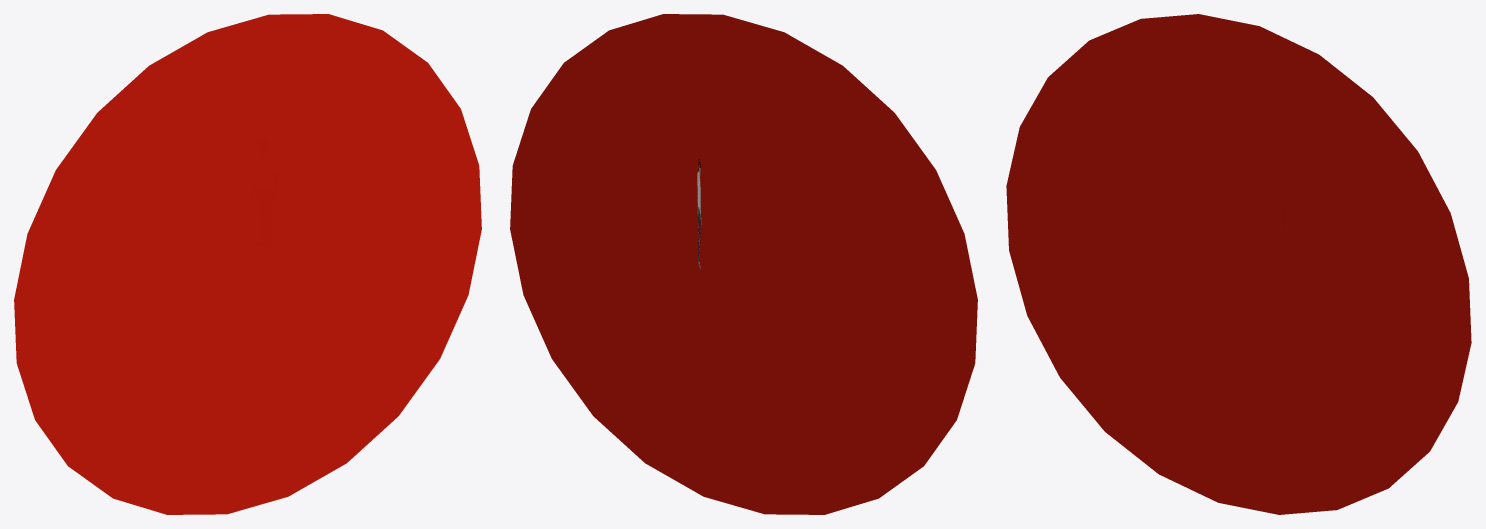
File: improCircleWPeople.dae
3 renders of one model, left to right at view 1: azimuth 30°, elevation 25°; view 2: azimuth 150°, elevation 25°; view 3: azimuth 330°, elevation 25°, orthographic.
Parts seen in each view (by area): view 1: SketchUp; view 2: SketchUp; view 3: SketchUp.
Part boxes in pixels (left/top/right/bottom): SketchUp: left=14, top=14, right=481, bottom=514; SketchUp: left=510, top=14, right=977, bottom=514; SketchUp: left=1006, top=14, right=1471, bottom=514.
Bounding box in the file's own units: 312 × 23.11 × 312.
